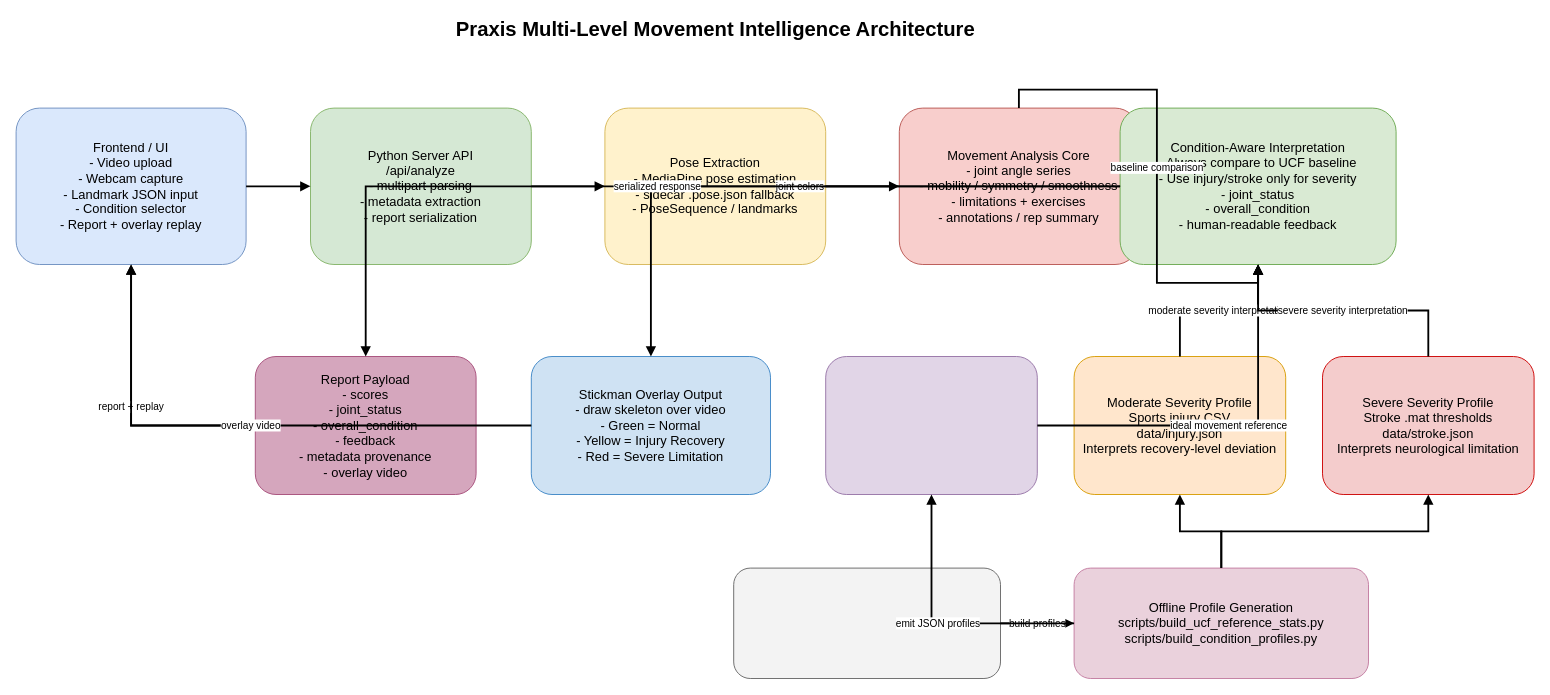
Some shapes in this 1550 by 695 pixel diagram are drawn without their labels. Here are the shapes that lost their labels. From the top down, the centre of each, then its label:
At pixel 931 425: "Primary Reference UCF101 data/normal.json Defines ideal movement baseline".
At pixel 866 622: "Datasets - UCF101 - multimodal_sports_injury_dataset.csv - stroke MATLAB data".
